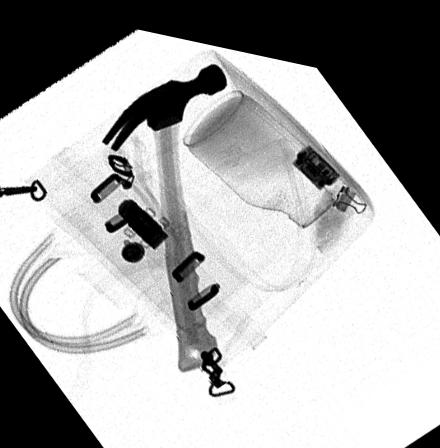Hammer: (100, 55, 228, 367)
